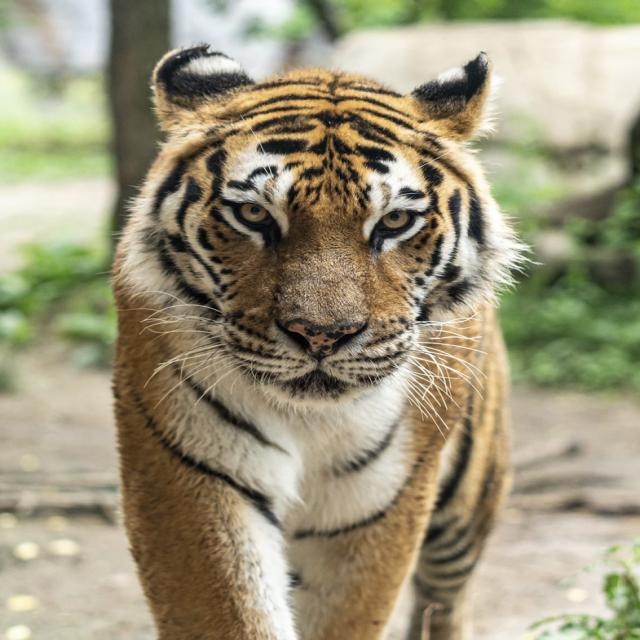Carnivorous: (110, 44, 531, 640)
